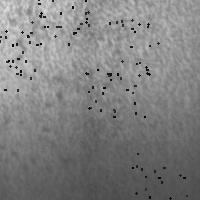pitted_surface: (1, 1, 196, 149), (85, 60, 144, 116), (108, 19, 157, 79), (28, 0, 88, 43), (132, 153, 186, 200), (0, 30, 36, 89)
